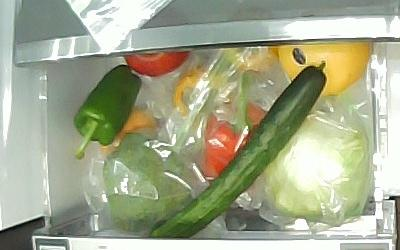apple: (124, 50, 189, 76)
broccoli_vinyl: (103, 116, 204, 229)
cucumber: (146, 59, 328, 237)
grapefruit: (278, 47, 372, 97)
lettuce_vinyl: (263, 112, 369, 227)
paprika: (72, 64, 143, 162)
peach: (101, 109, 162, 159)
persimmon_vinyl: (173, 66, 232, 120), (221, 49, 279, 70)
